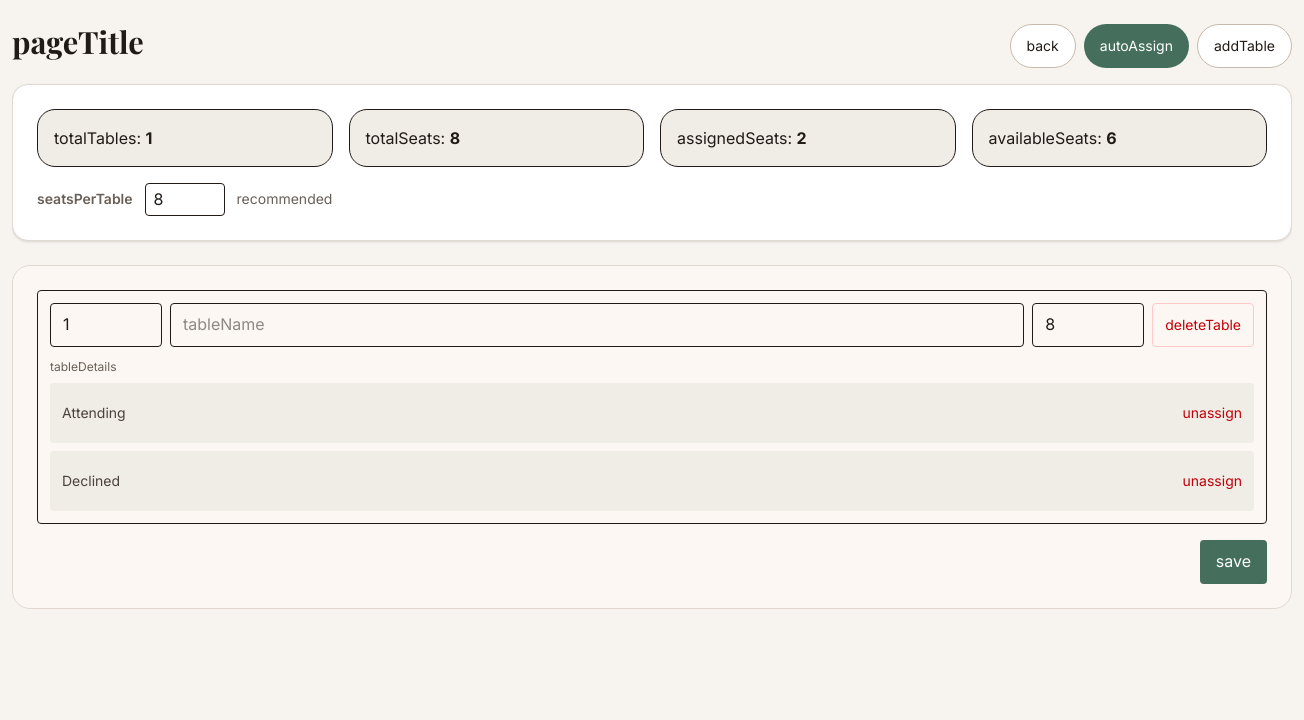
Test: RSVP changes in persisted table plans › does not seat declined guests after delete
expect the text "Declined" is shown: met, box [62,471,120,491]
Step 1. Click the button "deleteTable" → (1203, 325), box [1152,303,1254,347]
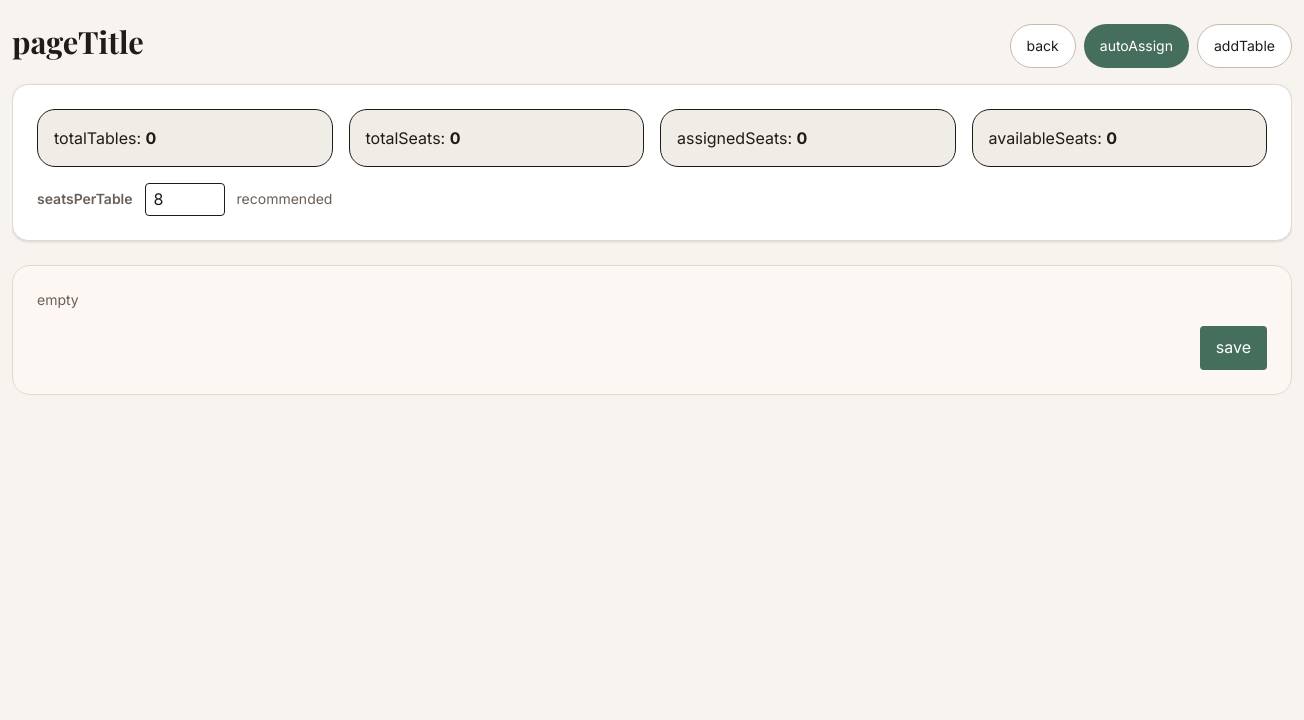
expect the text "Declined" is gone: met
Step 2. Click the button "autoAssign" → (1136, 46), box [1084,24,1189,68]
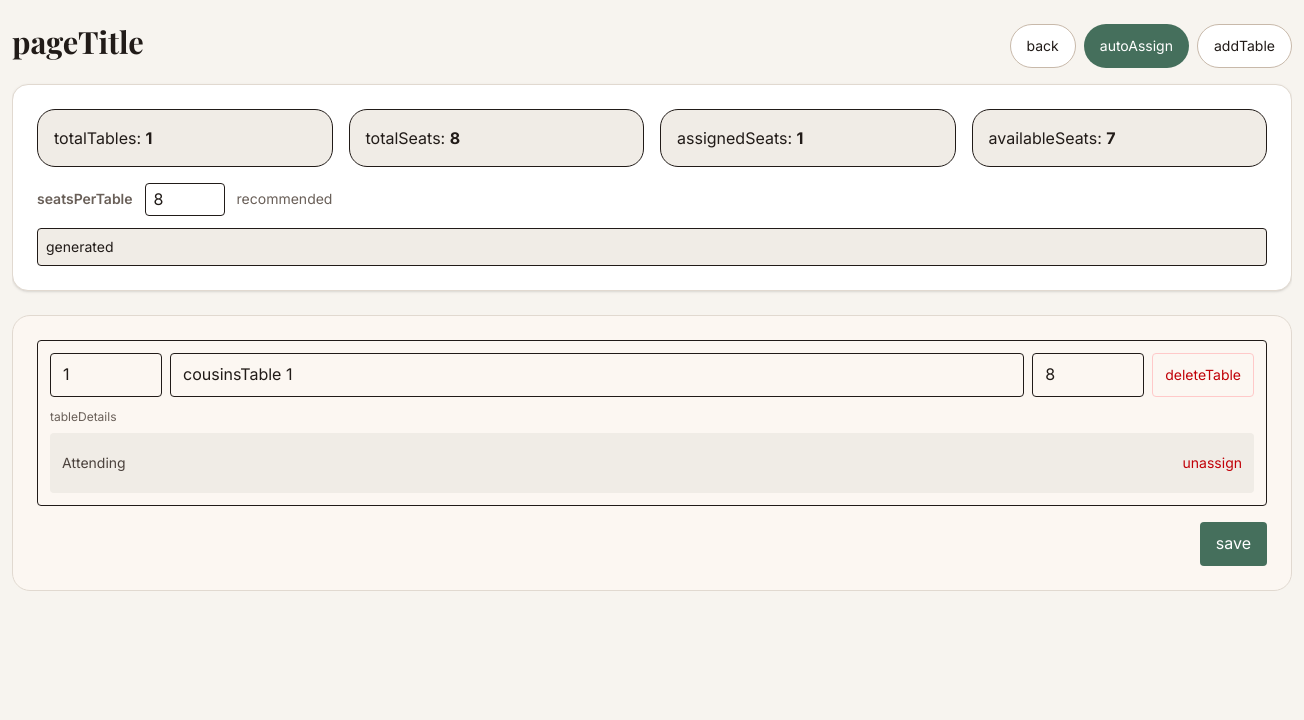
expect the text "Declined" is not shown: met
Step 3. Click the button "save" → (1233, 544), box [1200,522,1267,566]
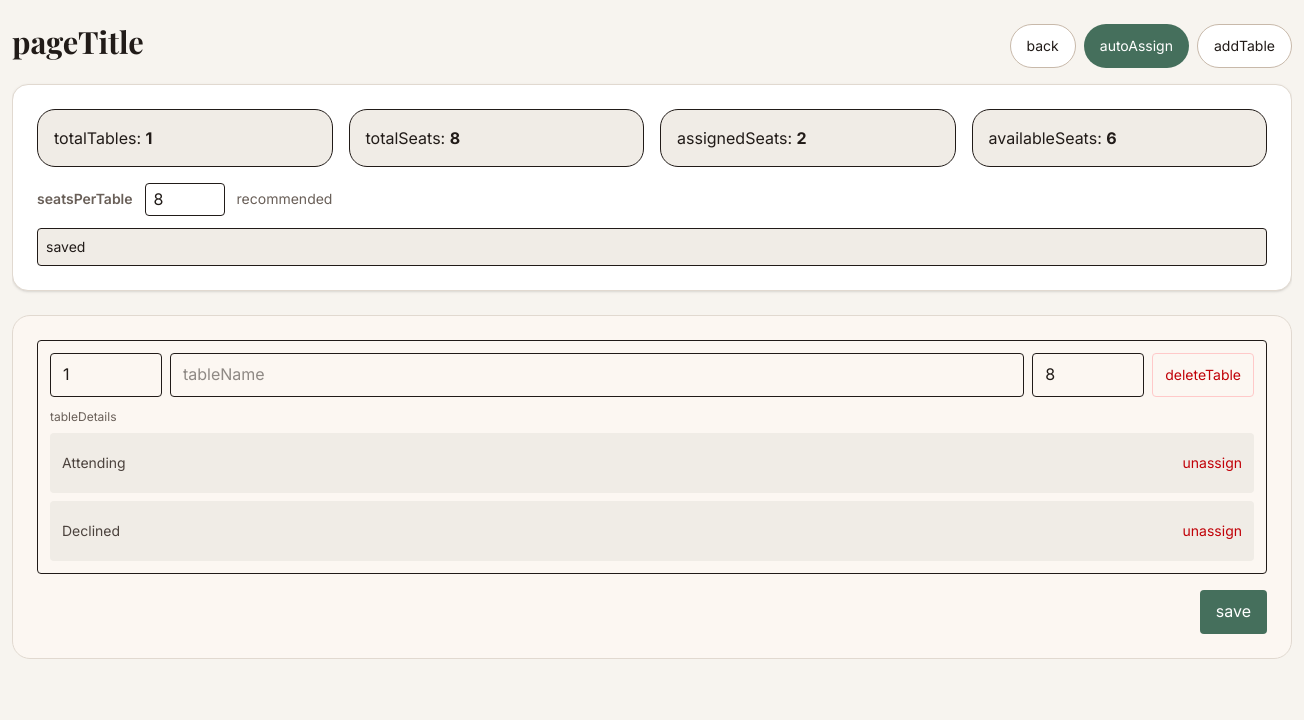
expect the text "saved" is shown: met, box [37,228,1267,266]
